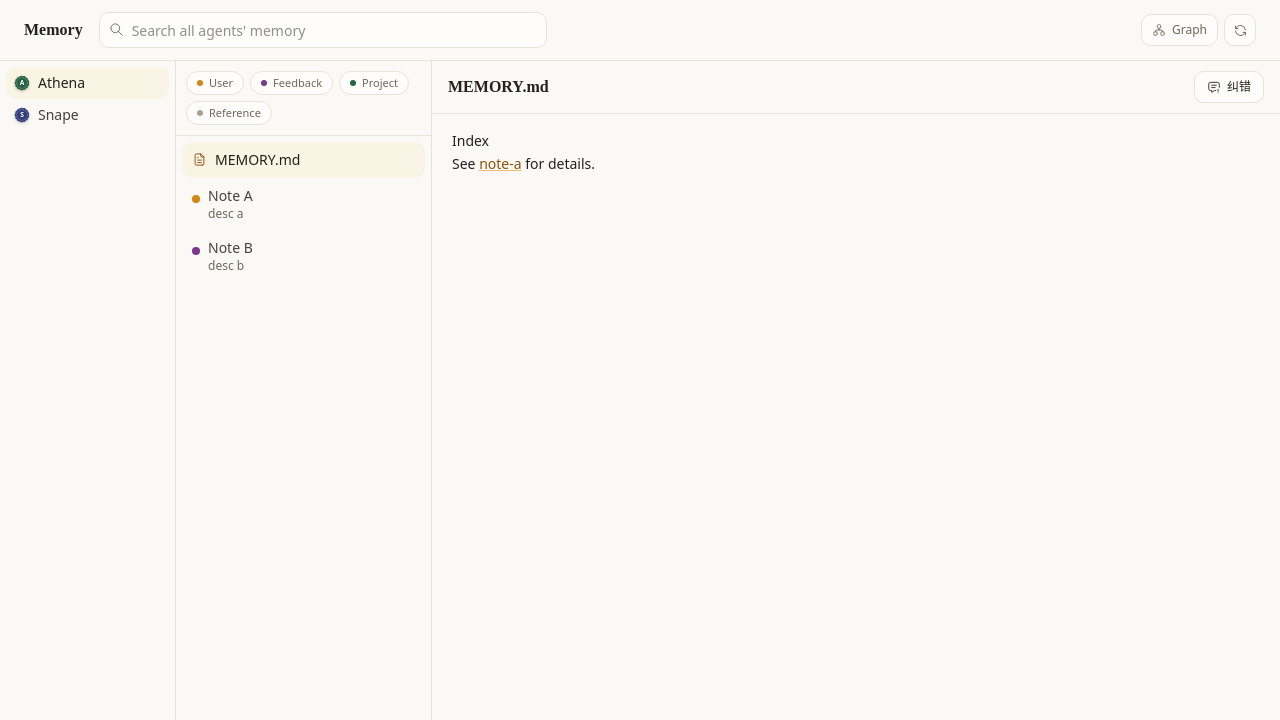
MemoryPage › filters the file list by the active type chips
The width and height of the screenshot is (1280, 720).
Expected: the text "Note A" is shown, [208,186,253,205]
Expected: the text "Note B" is shown, [208,238,253,257]
Click the button "Feedback". click: [292, 83]
box: [250,71,333,95]
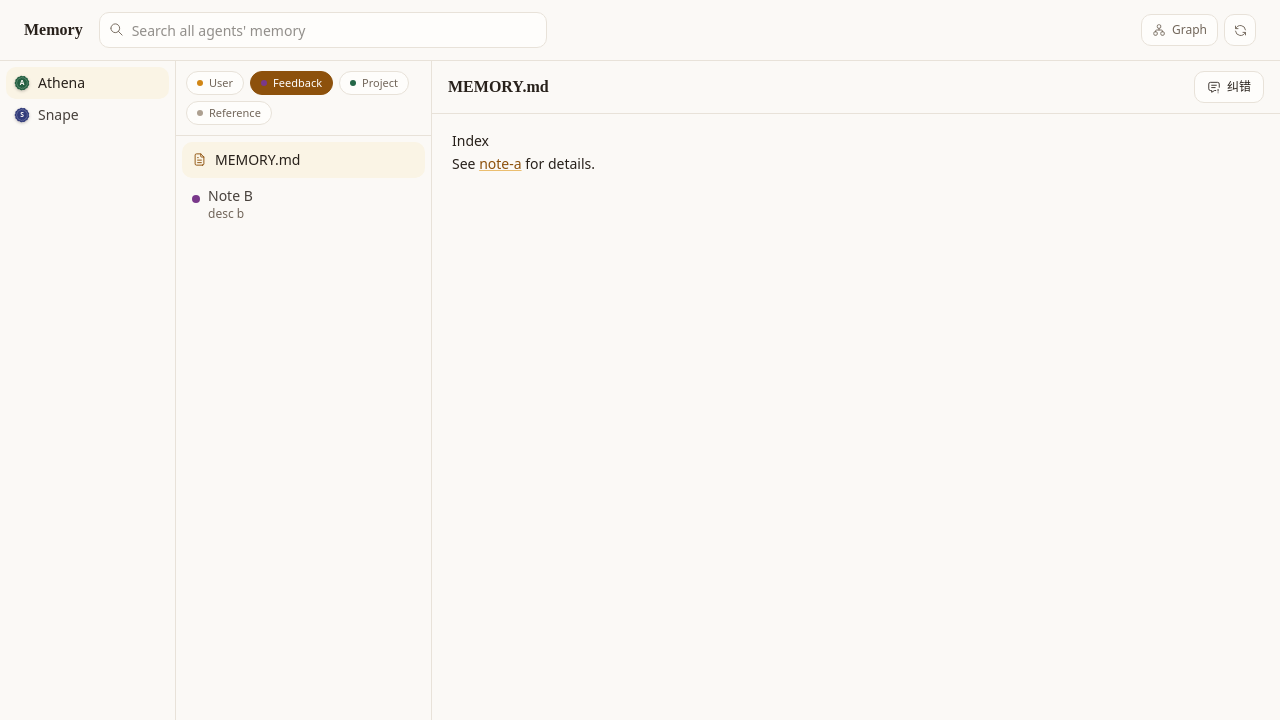
Expected: the text "Note B" is shown, [208,186,253,205]
Now the button "Note A" is gone
